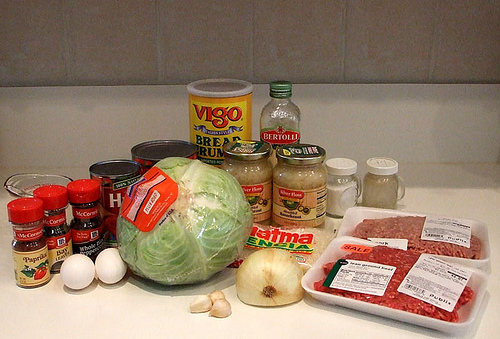cabbage: (117, 156, 254, 286)
